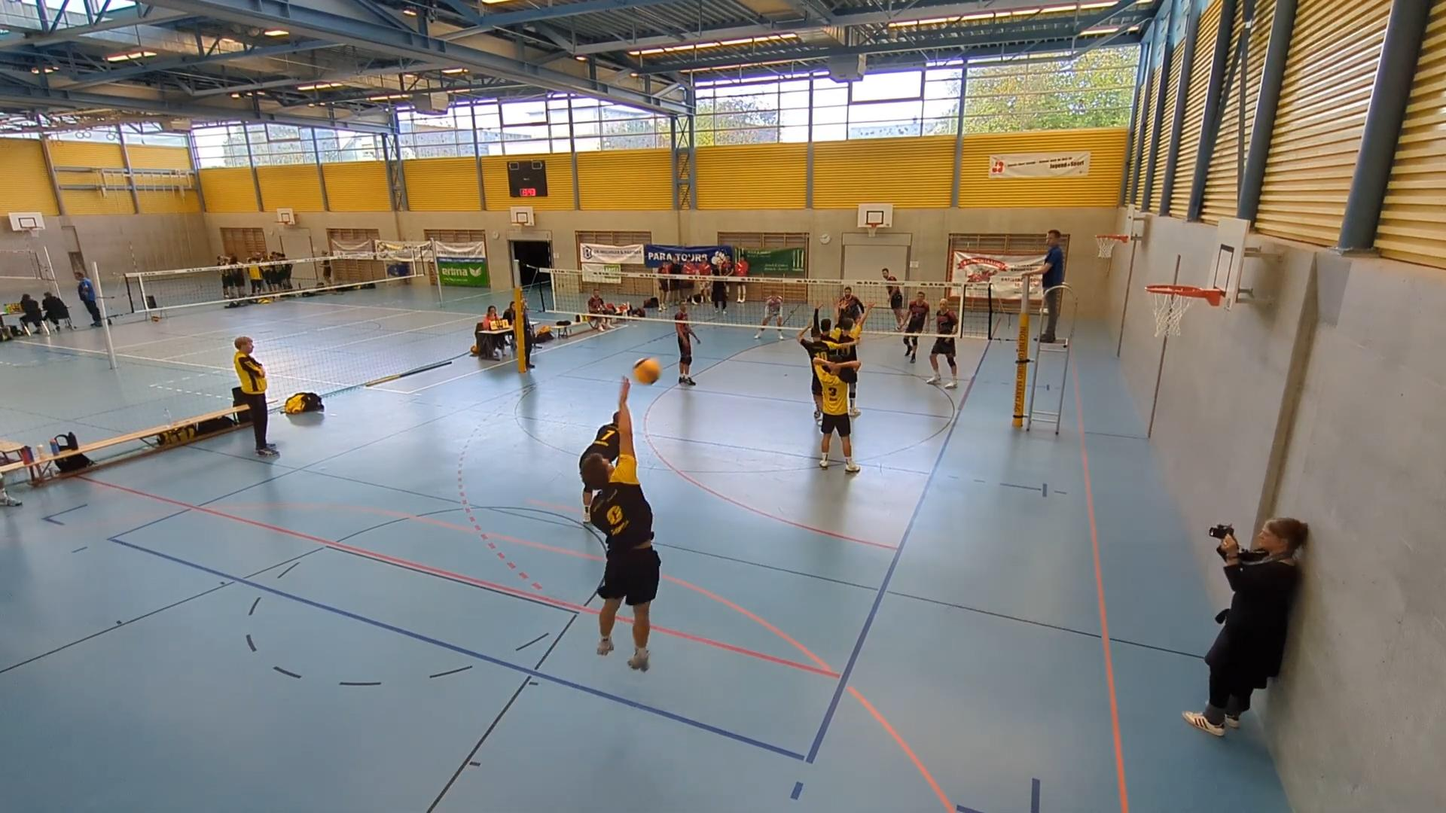Player: (812, 358, 860, 473), (798, 309, 830, 421), (926, 298, 958, 388), (798, 303, 844, 364), (825, 303, 872, 361), (579, 413, 619, 473), (674, 301, 700, 385), (903, 291, 929, 362), (753, 293, 783, 340), (883, 269, 905, 329), (835, 286, 863, 322)
Serve: (586, 376, 660, 672)
ball: (629, 357, 664, 384)
